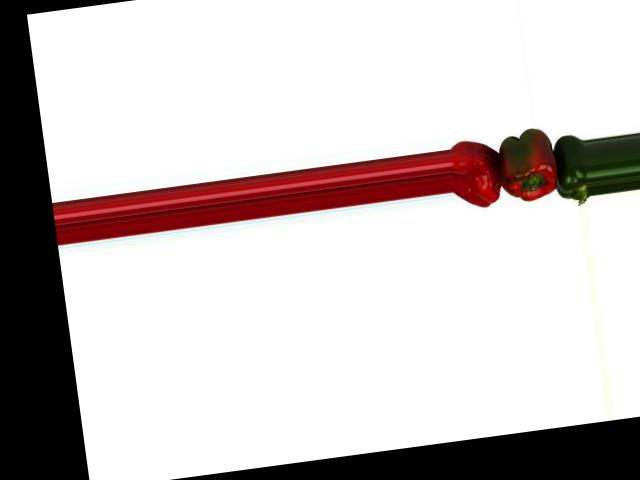bell_pepper: (446, 133, 507, 216)
